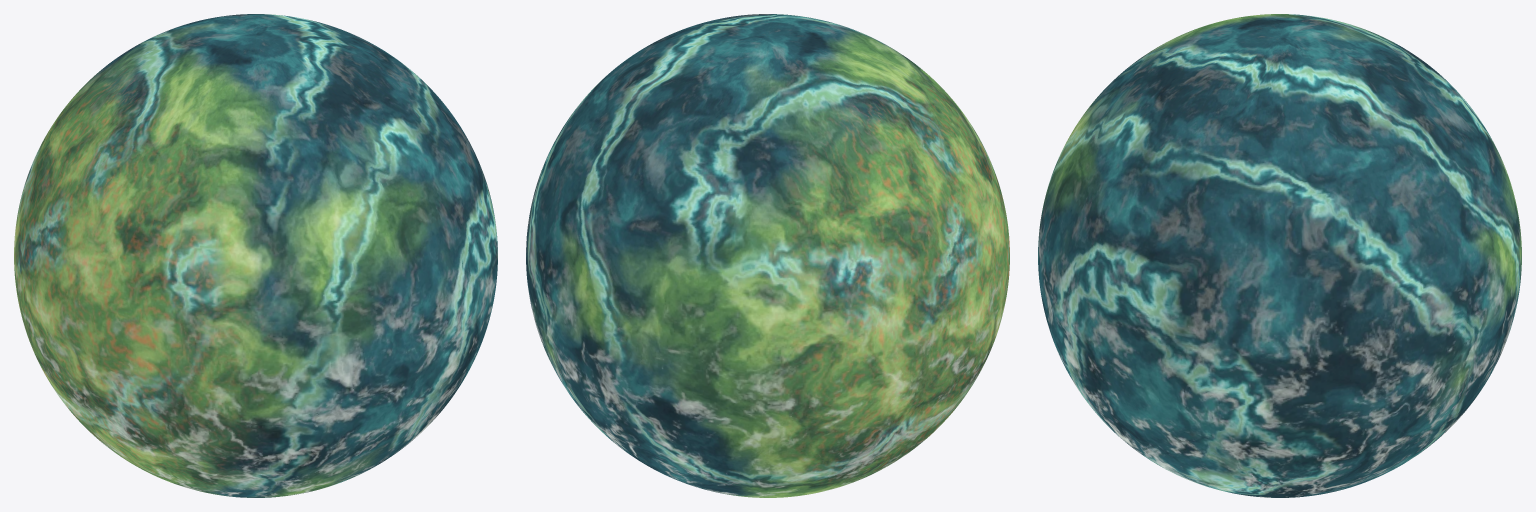
Rendered from Emerald_Tide.88805ea337.glb.
The picture shows the model from 3 angles, left to right: view 1: azimuth 30°, elevation 25°; view 2: azimuth 150°, elevation 25°; view 3: azimuth 270°, elevation 25°; orthographic projection.
Visible parts, largest first — view 1: Emerald_Tide; view 2: Emerald_Tide; view 3: Emerald_Tide.
Boxes of the visible parts, x1,y1,x2,y2 form: Emerald_Tide: (14,14,497,497); Emerald_Tide: (526,14,1009,497); Emerald_Tide: (1038,14,1521,497).
Bounding box in the file's own units: 2 × 2 × 2.
1 material, 1 textured.
